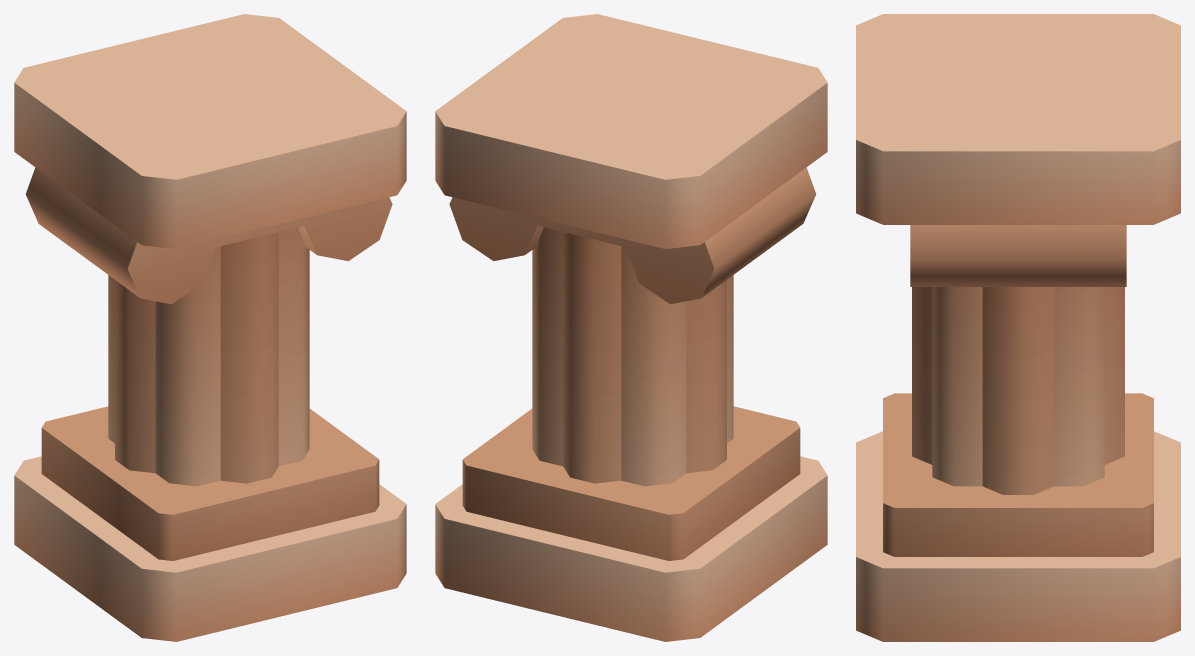
Rendered from prop_column_arena.glb.
The picture shows the model from 3 angles, left to right: view 1: azimuth 30°, elevation 25°; view 2: azimuth 150°, elevation 25°; view 3: azimuth 270°, elevation 25°; orthographic projection. The views are drawn at different scales.
Parts seen in each view (by area): view 1: column; view 2: column; view 3: column.
Part boxes in pixels (x1,y1,x2,y2): column: (14,14,406,641); column: (435,14,827,641); column: (856,14,1180,641).
Size of the model in its own units: 0.6031 by 1 by 0.6001.
1 material, 1 textured.
